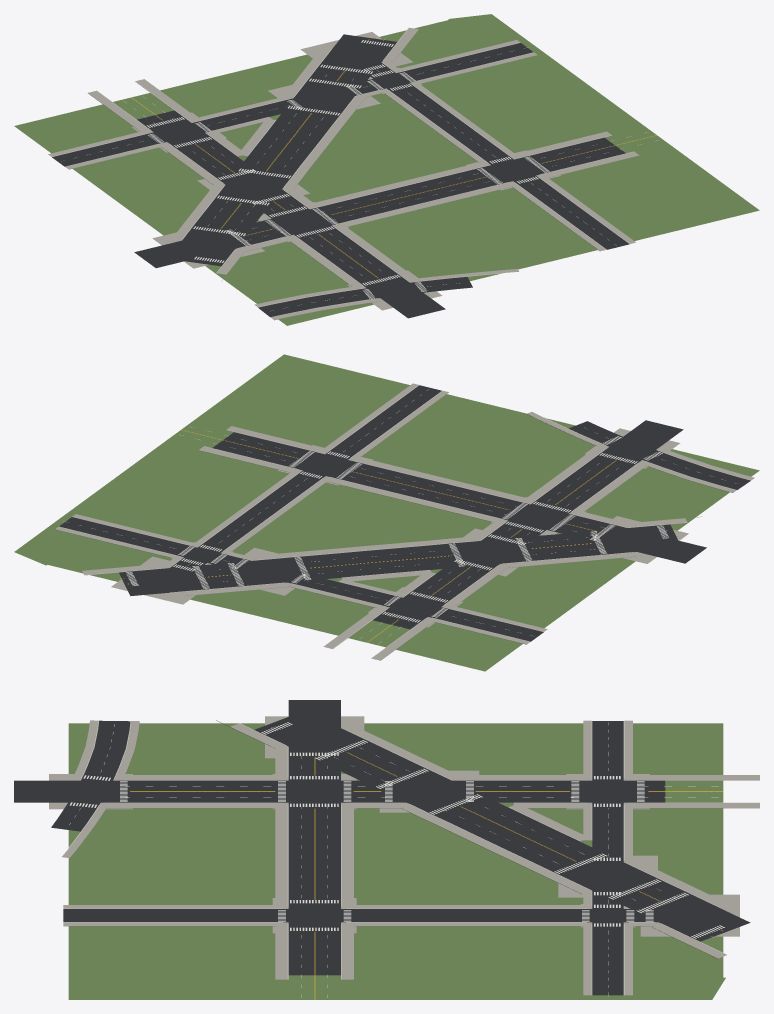
The model's file is Ground_1_1.fbx.
3 renders of one model, top to bottom at view 1: azimuth 30°, elevation 25°; view 2: azimuth 150°, elevation 25°; view 3: azimuth 270°, elevation 25°, orthographic. The views are drawn at different scales.
Visible parts, largest first — view 1: Ground_1_1; view 2: Ground_1_1; view 3: Ground_1_1.
Part boxes in pixels (bbox=[...]): Ground_1_1: bbox=[14, 14, 759, 325]; Ground_1_1: bbox=[14, 354, 759, 671]; Ground_1_1: bbox=[14, 700, 759, 999].
Size of the model in its own units: 271 by 0.14 by 285.
